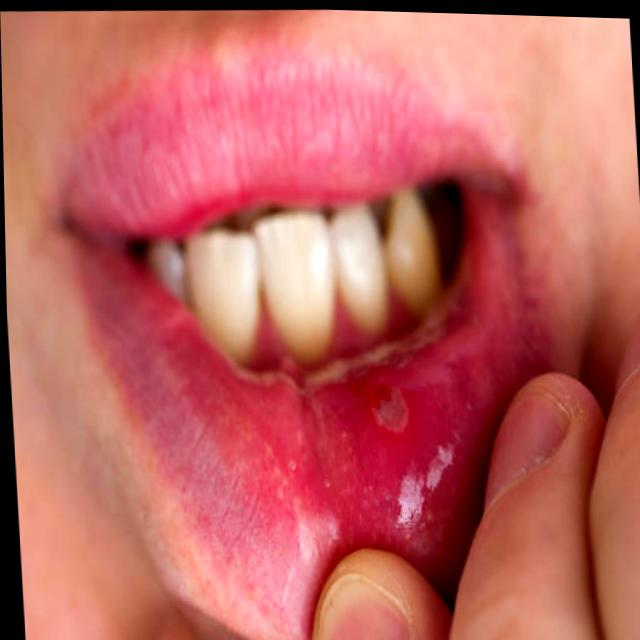ulcer: (371, 388, 409, 433)
